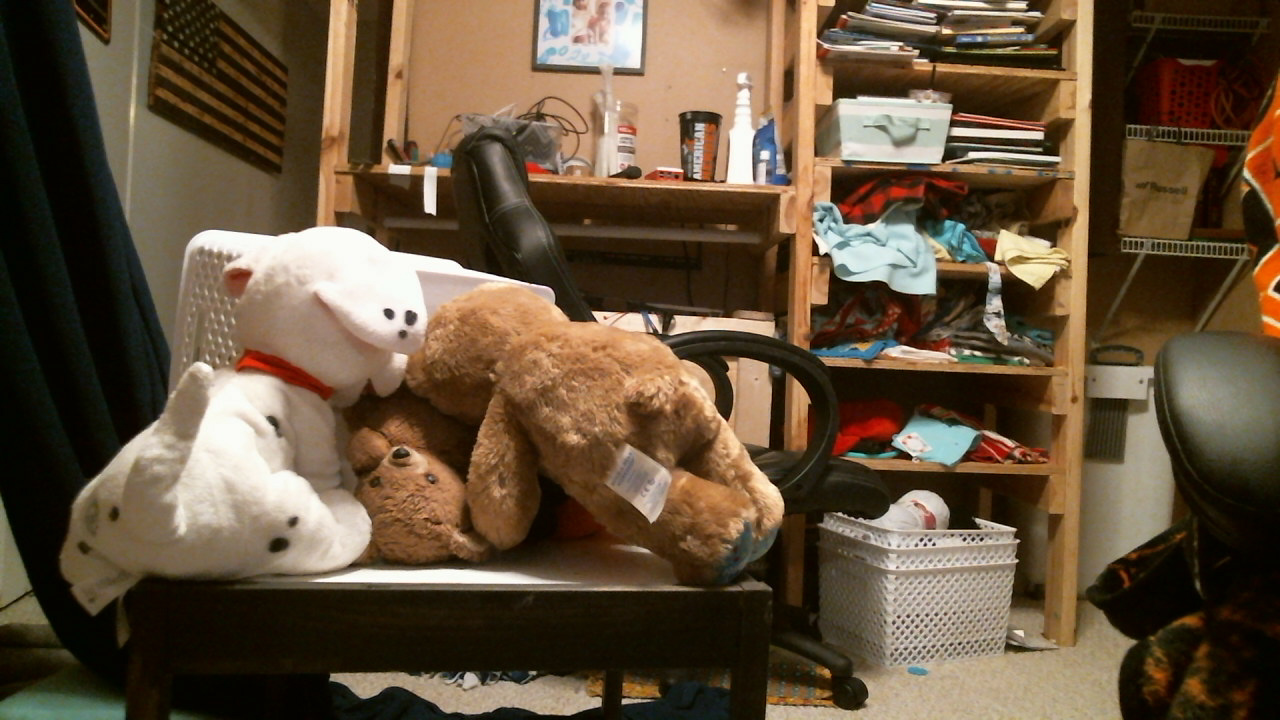Little_Mister_Bear: (370, 452, 444, 503)
